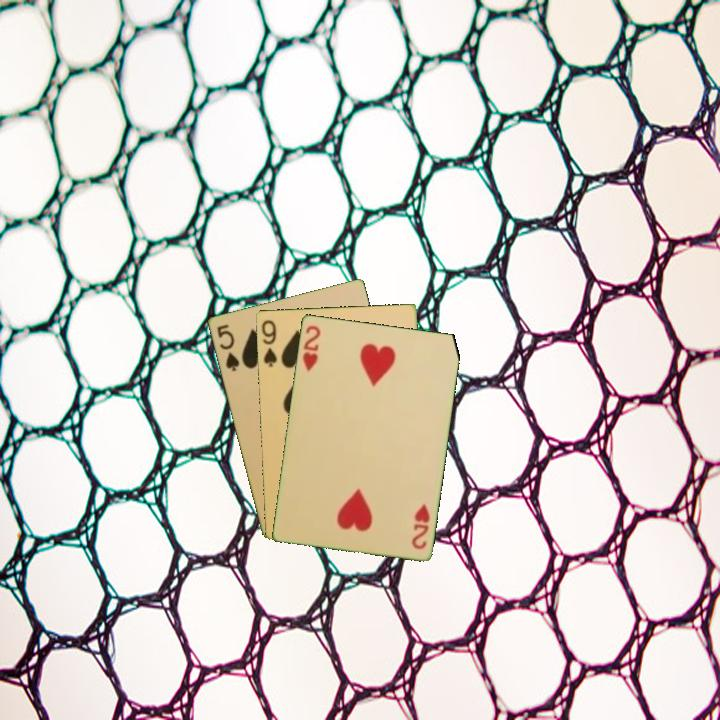2h: (299, 321, 323, 374), (408, 500, 432, 552)
5s: (213, 320, 242, 374)
9s: (258, 316, 280, 370)
